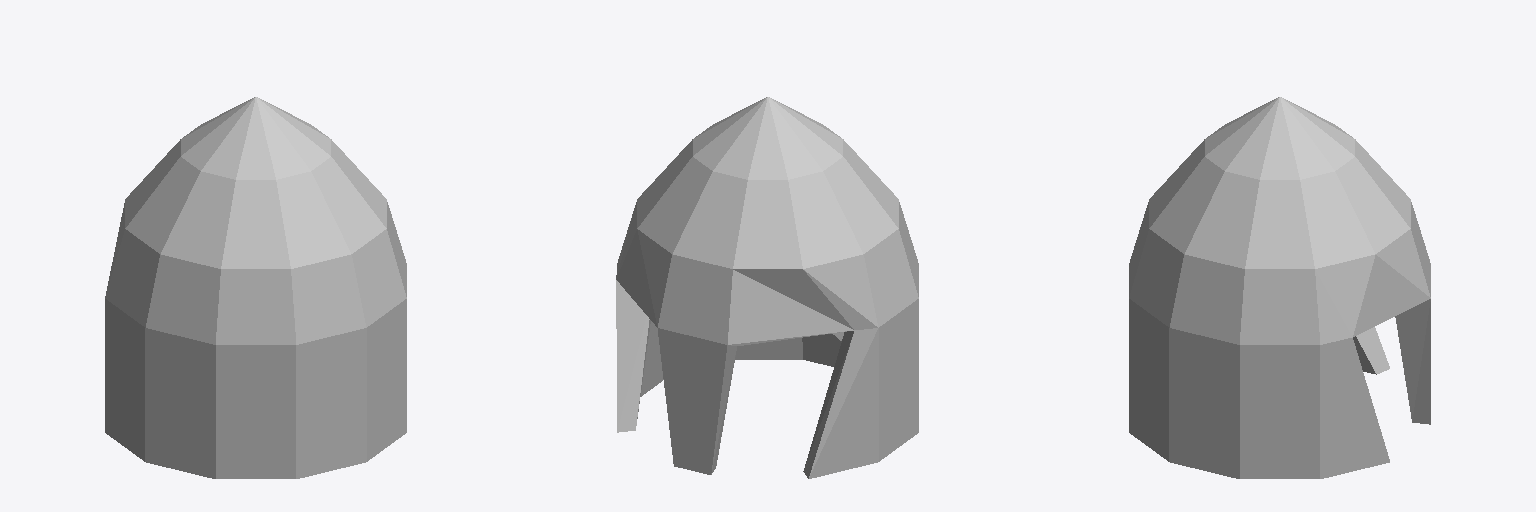
The model's file is FootsoldierHat.obj.
The picture shows the model from 3 angles: view 1: azimuth 30°, elevation 25°; view 2: azimuth 150°, elevation 25°; view 3: azimuth 270°, elevation 25°; orthographic projection.
Visible parts, largest first — view 1: cylinder; view 2: cylinder; view 3: cylinder.
Boxes of the visible parts, x1=… form: cylinder: x1=105, y1=97, x2=406, y2=478; cylinder: x1=616, y1=97, x2=918, y2=478; cylinder: x1=1129, y1=97, x2=1430, y2=478.
Bounding box in the file's own units: 0.375 × 0.4375 × 0.375.